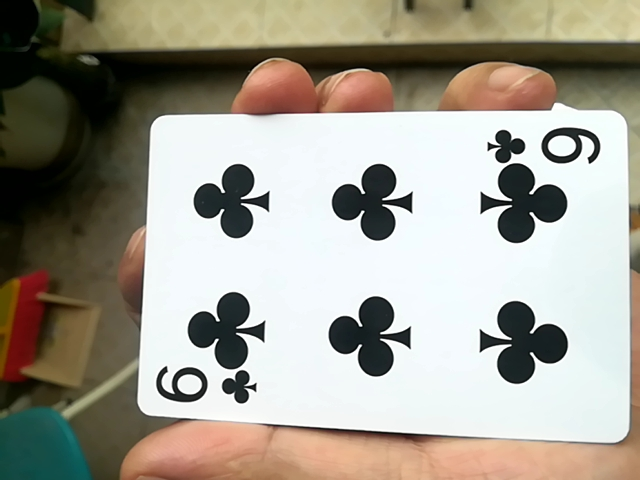mh 6: (130, 103, 625, 449)
